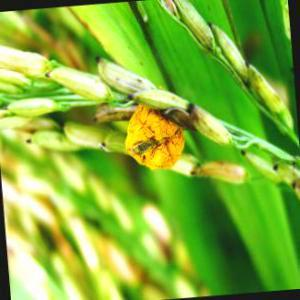Leaf_Scald: (133, 108, 181, 176)
